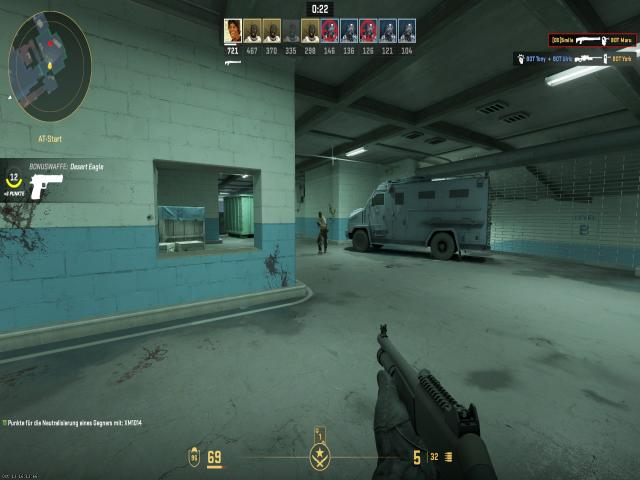T: (318, 211, 328, 253)
T-Head: (319, 211, 322, 218)
